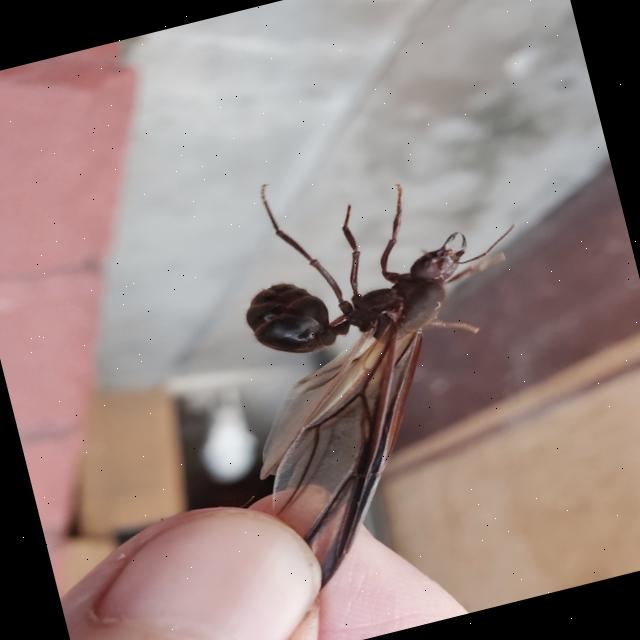Alive-Female-Alate: (189, 126, 591, 600)
